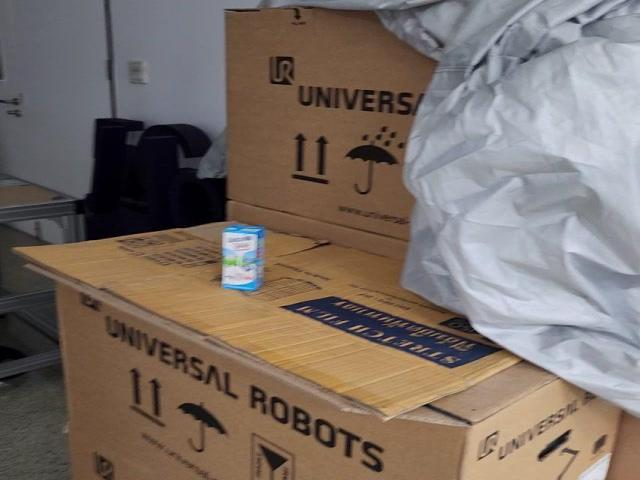drink_box: (213, 220, 273, 297)
